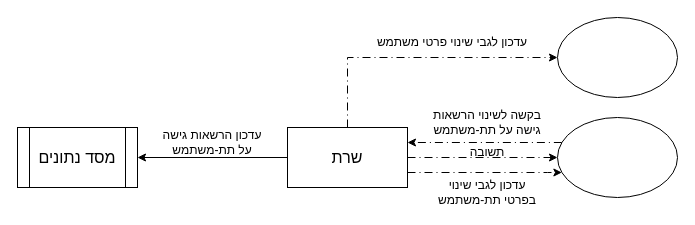
Image size: 695x225. Some labels were removed from this diagram. The box of each missing label's shape, as (x1, y1, x2, y2) in pixels:
משתמש בעל: (556, 116, 678, 198)
תת-משתמש: (556, 16, 678, 98)
